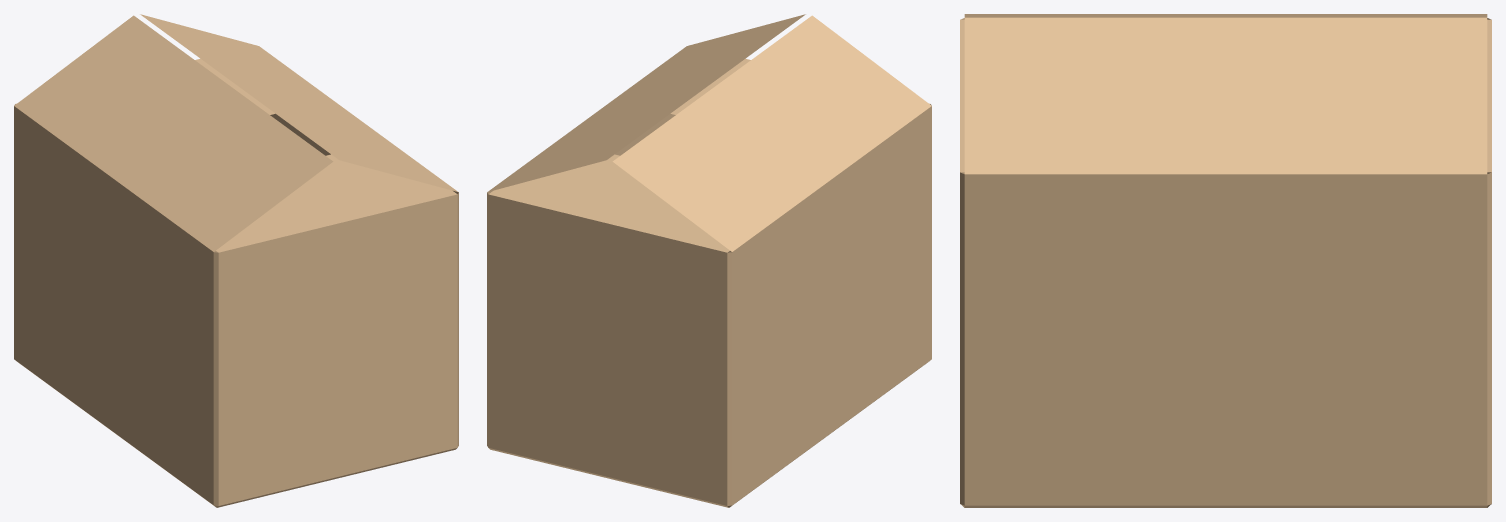
The model's file is dando-ru.fbx.
3 renders of one model, left to right at view 1: azimuth 30°, elevation 25°; view 2: azimuth 150°, elevation 25°; view 3: azimuth 270°, elevation 25°, orthographic. The views are drawn at different scales.
Visible parts, largest first — view 1: pCube1; view 2: pCube1; view 3: pCube1.
Boxes of the visible parts, x1=… form: pCube1: x1=14, y1=14, x2=458, y2=507; pCube1: x1=487, y1=14, x2=931, y2=507; pCube1: x1=960, y1=14, x2=1491, y2=507.
Bounding box in the file's own units: 50 × 61.95 × 71.82.
